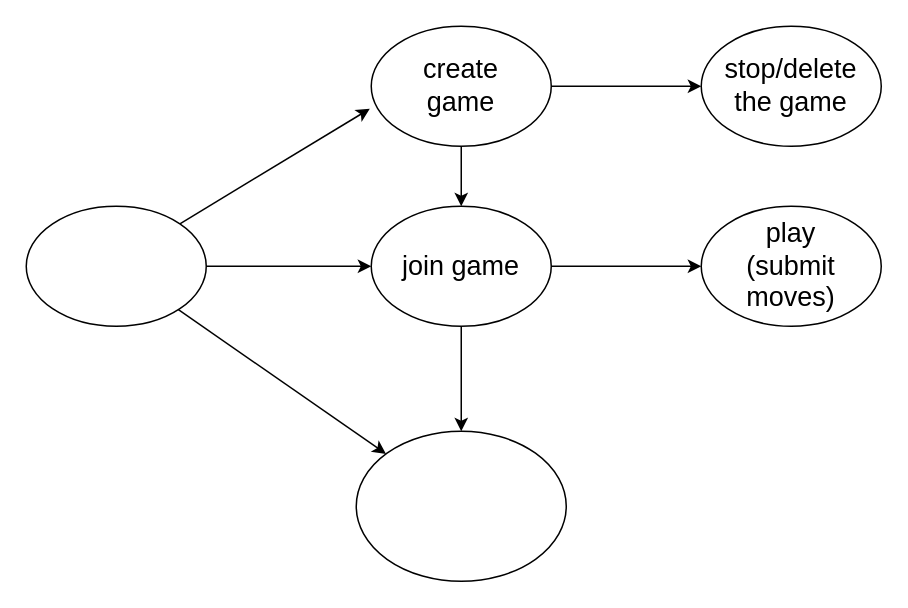
Some shapes in this 908 by 608 pixel diagram are drawn without their labels. Each missing label, with the box of its shape:
login: (25, 205, 206, 326)
logout/ quit the game: (355, 430, 566, 581)
